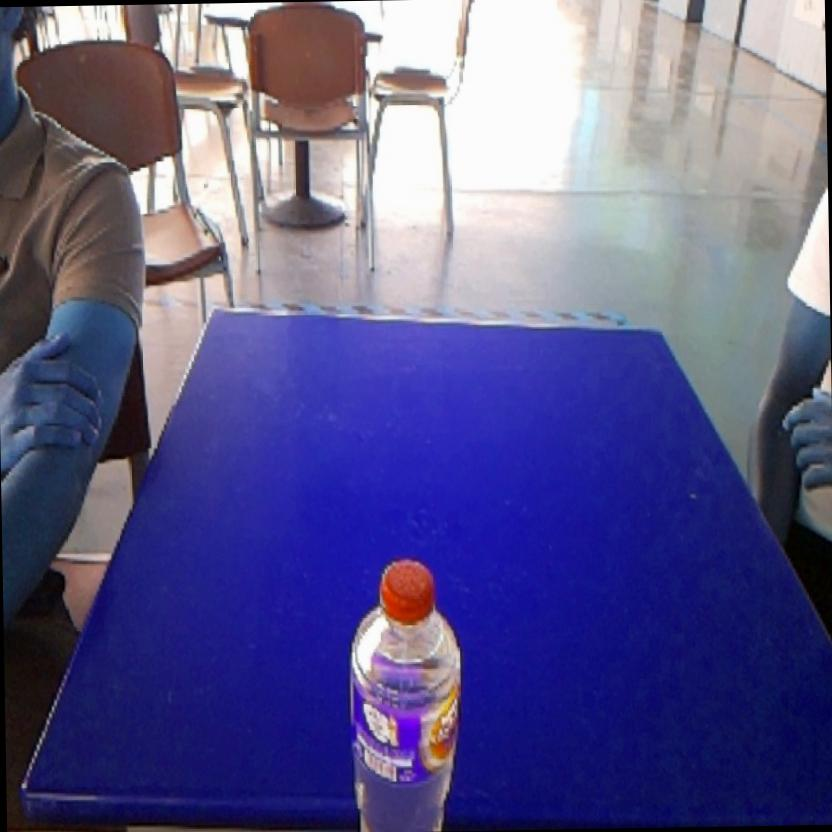good: (328, 535, 472, 832)
